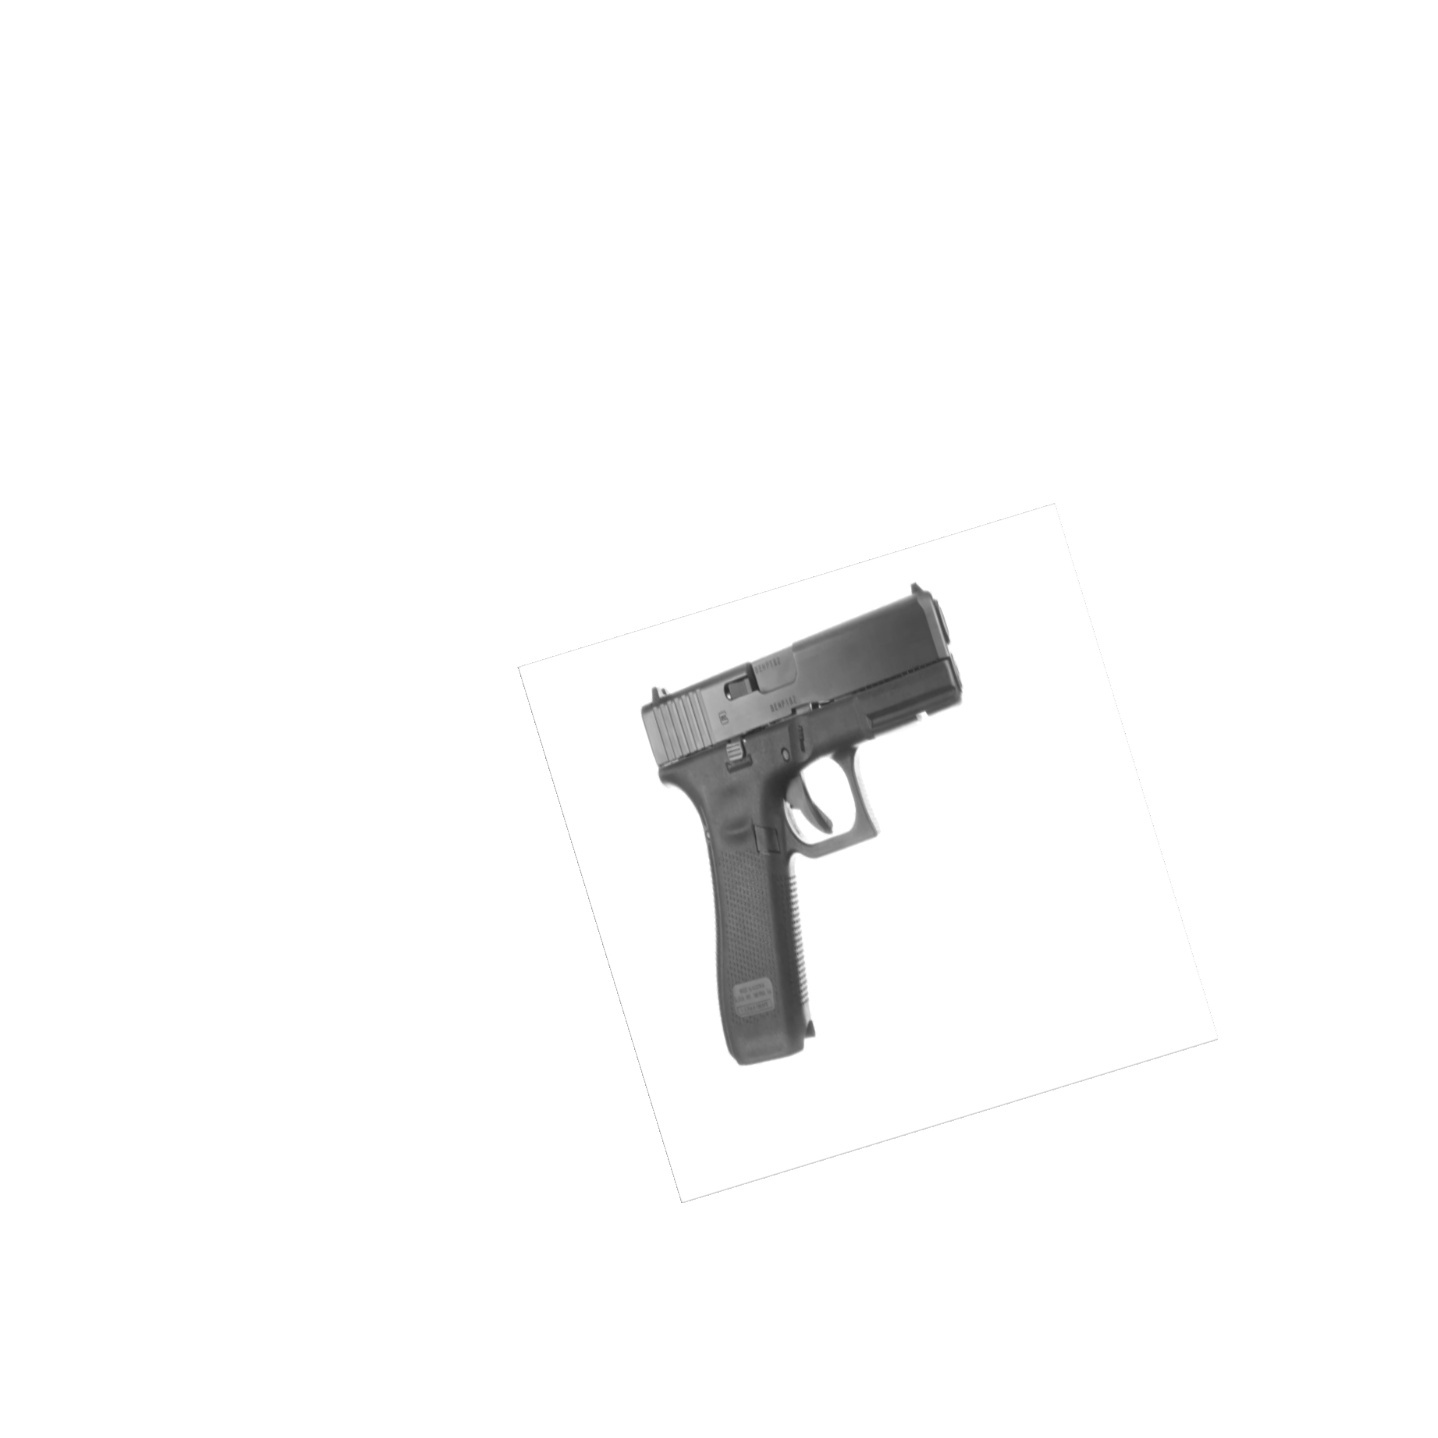gun: (629, 582, 994, 1067)
